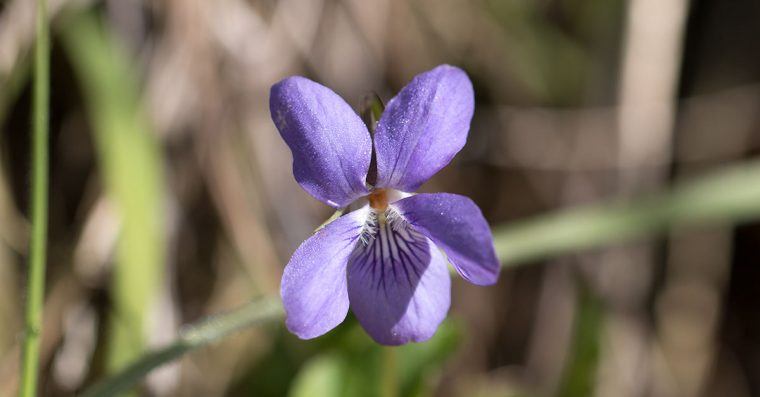violet: (254, 67, 507, 357)
